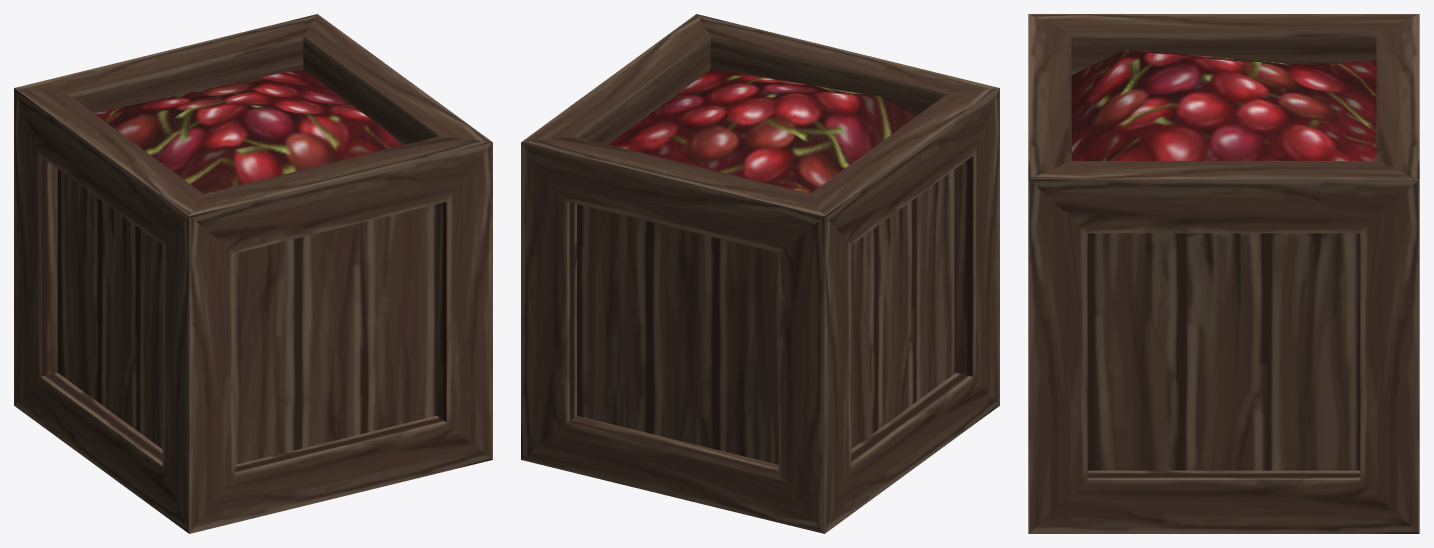
File: crate_03.fbx
3 views of the same model, side by side, from view 1: azimuth 30°, elevation 25°; view 2: azimuth 150°, elevation 25°; view 3: azimuth 270°, elevation 25° (orthographic). The views are drawn at different scales.
Visible parts, largest first — view 1: crate_03; view 2: crate_03; view 3: crate_03.
Part boxes in pixels (<box>): crate_03: <box>14,14,492,533</box>; crate_03: <box>521,14,999,533</box>; crate_03: <box>1028,14,1419,533</box>.
Bounding box in the file's own units: 60 × 63.77 × 60.
